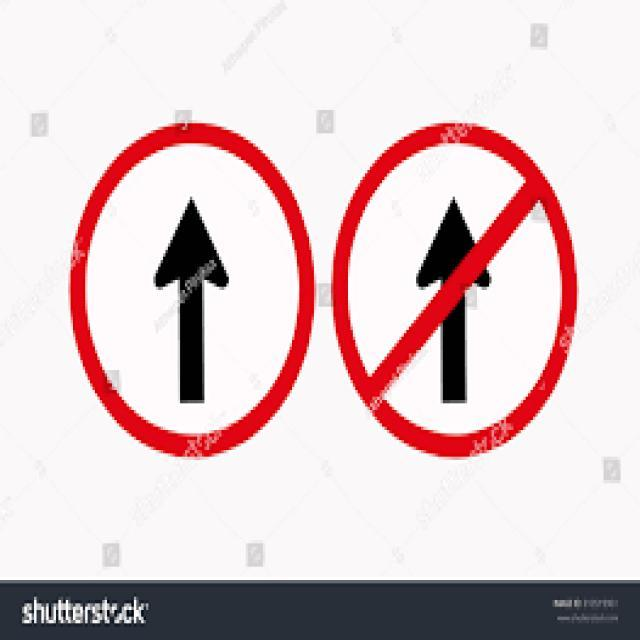straight prohibited: (326, 110, 585, 469)
